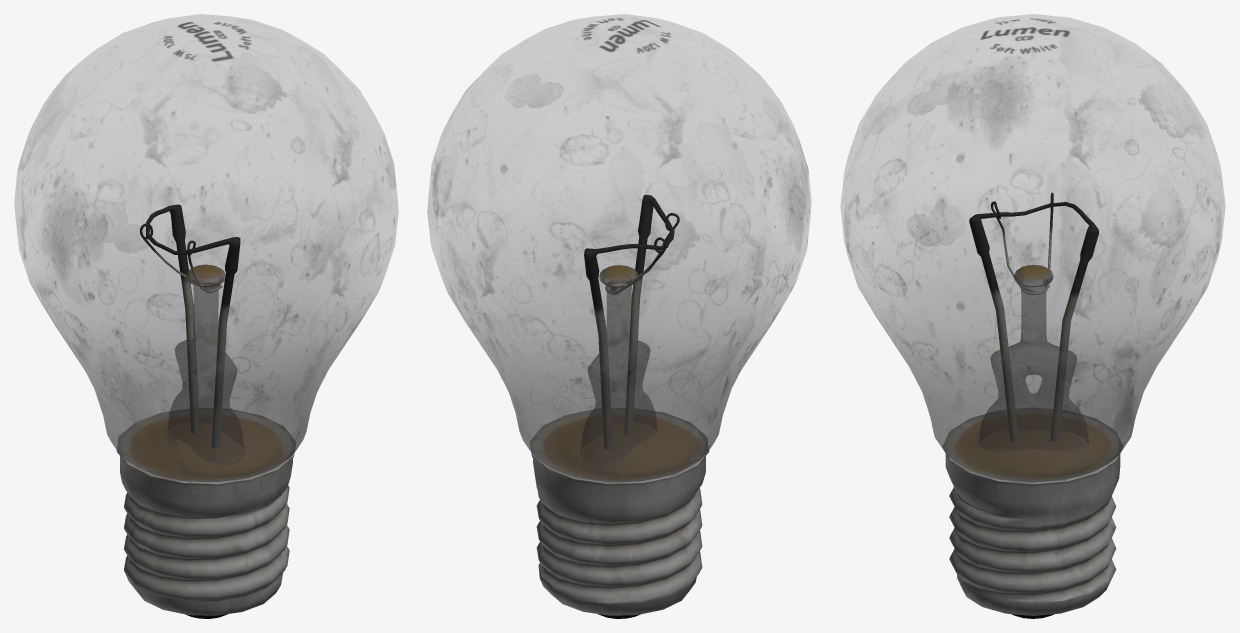
The model's file is polyhaven-lightbulb-01.glb.
3 renders of one model, left to right at view 1: azimuth 30°, elevation 25°; view 2: azimuth 150°, elevation 25°; view 3: azimuth 270°, elevation 25°, orthographic.
Parts seen in each view (by area): view 1: lightbulb_01_0, lightbulb_01_1; view 2: lightbulb_01_0, lightbulb_01_1; view 3: lightbulb_01_0, lightbulb_01_1.
Part boxes in pixels (x1,y1,x2,y2): lightbulb_01_0: (15, 14, 397, 481); lightbulb_01_1: (116, 204, 295, 618); lightbulb_01_0: (427, 14, 810, 481); lightbulb_01_1: (530, 194, 709, 618); lightbulb_01_0: (841, 14, 1224, 482); lightbulb_01_1: (942, 192, 1122, 618).
Size of the model in its own units: 0.06 by 0.1003 by 0.06.
2 materials, 2 textured.
